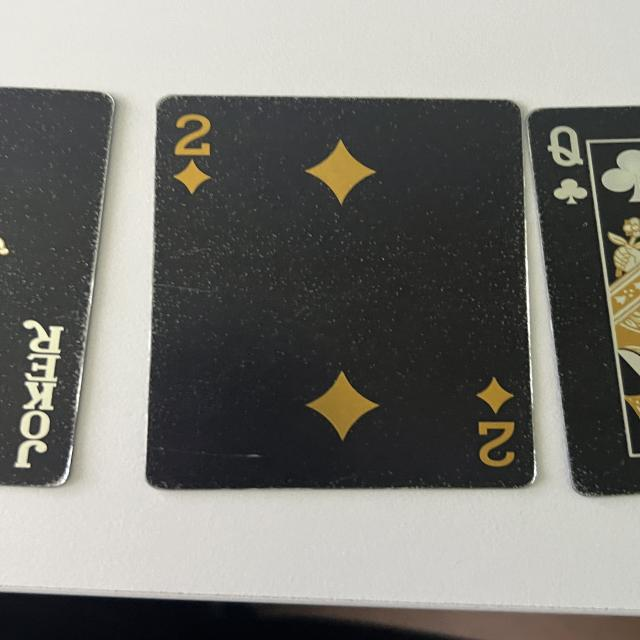2D: (467, 370, 531, 482), (161, 104, 220, 200)
BLACK JOKER: (13, 314, 68, 474)
QC: (536, 112, 601, 213)
